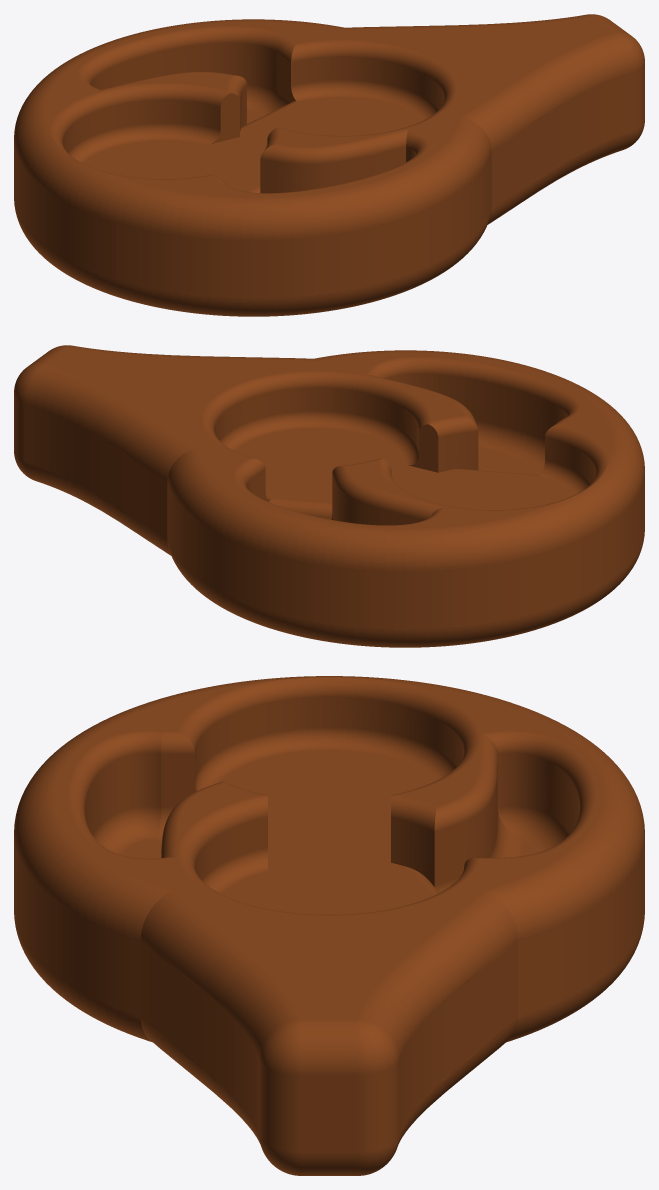
The model's file is portavelas.glb.
The picture shows the model from 3 angles, top to bottom: view 1: azimuth 30°, elevation 25°; view 2: azimuth 150°, elevation 25°; view 3: azimuth 270°, elevation 25°; orthographic projection. The views are drawn at different scales.
Visible parts, largest first — view 1: Porta Velas; view 2: Porta Velas; view 3: Porta Velas.
Boxes of the visible parts, x1,y1,x2,y2 form: Porta Velas: (14, 14, 644, 316); Porta Velas: (14, 345, 644, 647); Porta Velas: (14, 676, 644, 1175).
Bounding box in the file's own units: 116 × 22 × 82.5.
